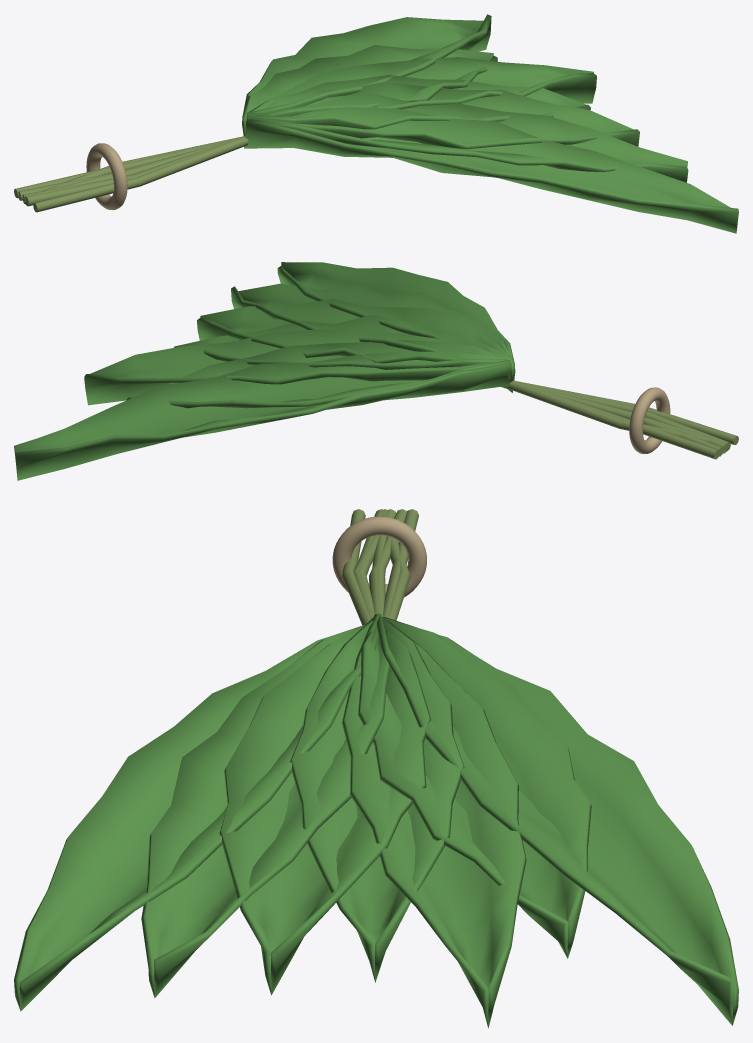
Rendered from Item_herb.fbx.
The picture shows the model from 3 angles, top to bottom: view 1: azimuth 30°, elevation 25°; view 2: azimuth 150°, elevation 25°; view 3: azimuth 270°, elevation 25°; orthographic projection. The views are drawn at different scales.
Parts seen in each view (by area): view 1: model.007; view 2: model.007; view 3: model.007.
Part boxes in pixels (bbox=[...]): model.007: bbox=[14, 14, 738, 233]; model.007: bbox=[14, 262, 738, 480]; model.007: bbox=[14, 509, 738, 1028].
Bounding box in the file's own units: 0.3069 × 0.0586 × 0.2298.
